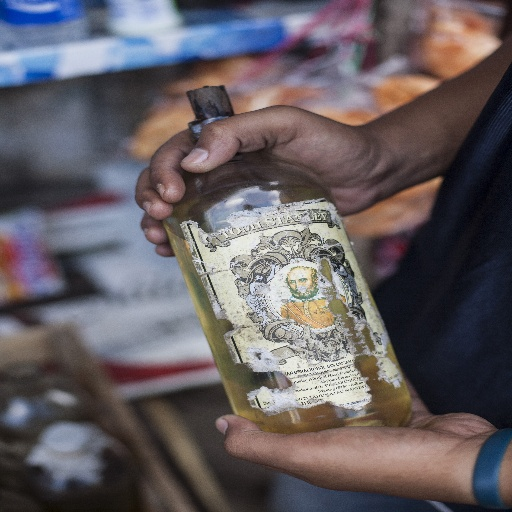hand: (130, 104, 383, 258), (214, 377, 503, 500)
